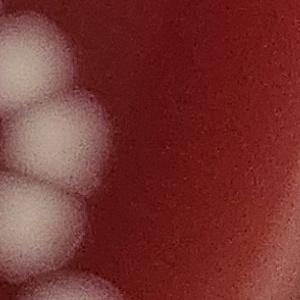colony: (0, 84, 124, 207), (0, 167, 97, 289), (0, 8, 94, 123), (7, 259, 136, 300)
